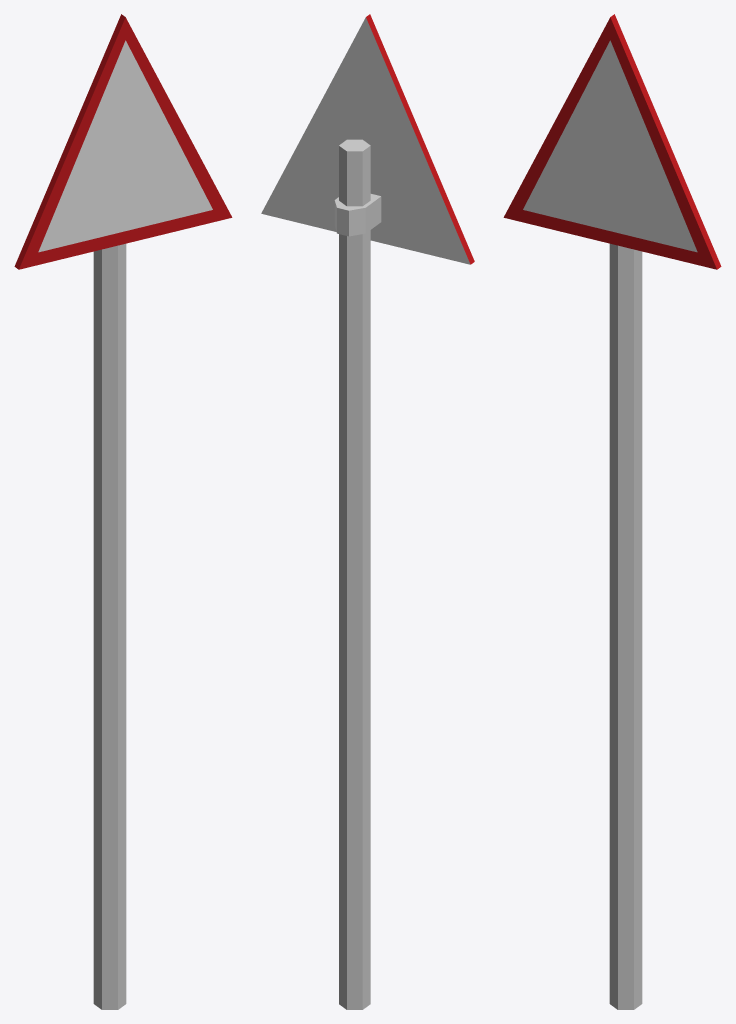
The model's file is Trafico.fbx.
3 renders of one model, left to right at view 1: azimuth 30°, elevation 25°; view 2: azimuth 150°, elevation 25°; view 3: azimuth 330°, elevation 25°, orthographic.
Parts seen in each view (by area): view 1: Circle, Cone; view 2: Circle, Cone, Cube; view 3: Circle, Cone.
Boxes of the visible parts, x1,y1,x2,y2 form: Circle: (93, 243, 126, 1009); Cone: (14, 14, 232, 269); Circle: (339, 139, 370, 1009); Cone: (261, 14, 474, 264); Cube: (334, 194, 381, 236); Circle: (609, 243, 642, 1009); Cone: (503, 14, 721, 269).
Bounding box in the file's own units: 55.35 × 247 × 12.42.
